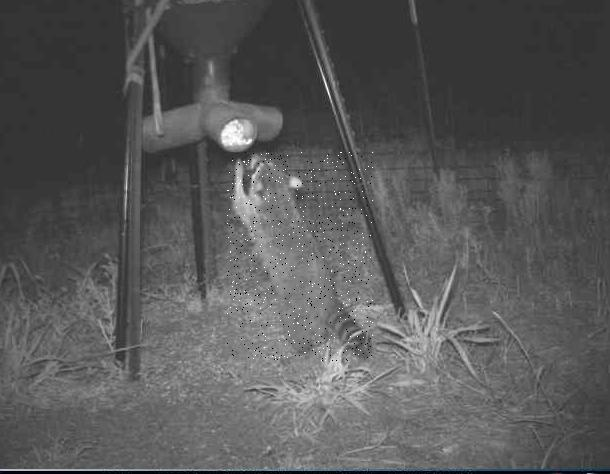Raccoon: (227, 153, 373, 362)
